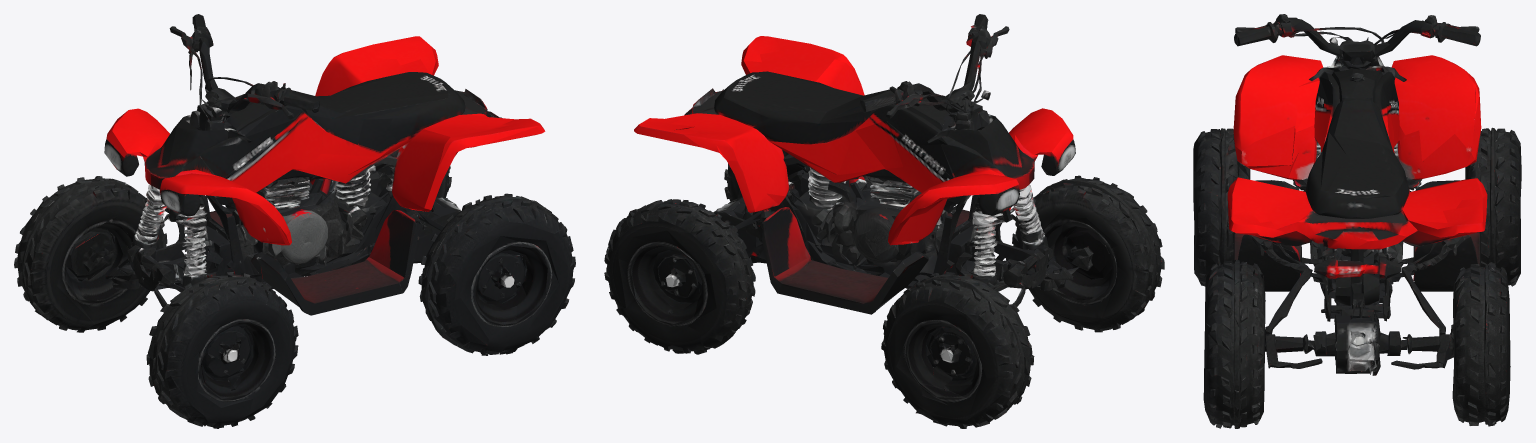
File: quad-seul.glb
3 renders of one model, left to right at view 1: azimuth 30°, elevation 25°; view 2: azimuth 150°, elevation 25°; view 3: azimuth 270°, elevation 25°, orthographic.
Bounding box in the file's own units: 1.9 × 1.3 × 1.27.
Materials: 1 (1 with a texture image).
